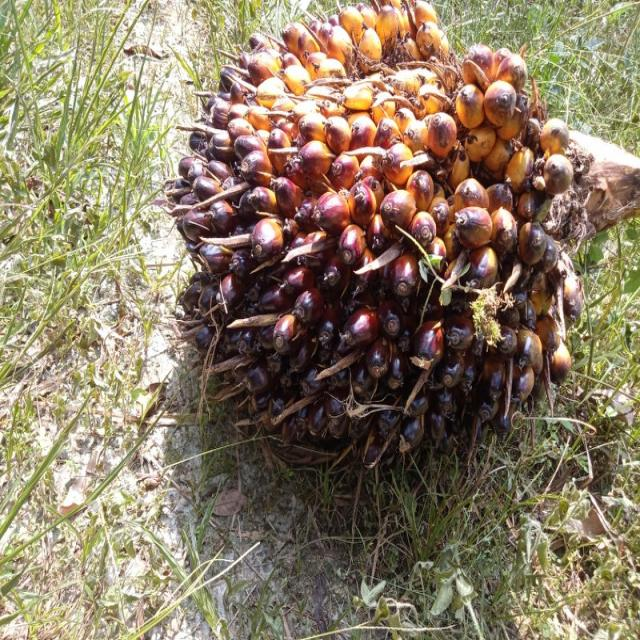fraksi 00: (155, 9, 578, 460)
